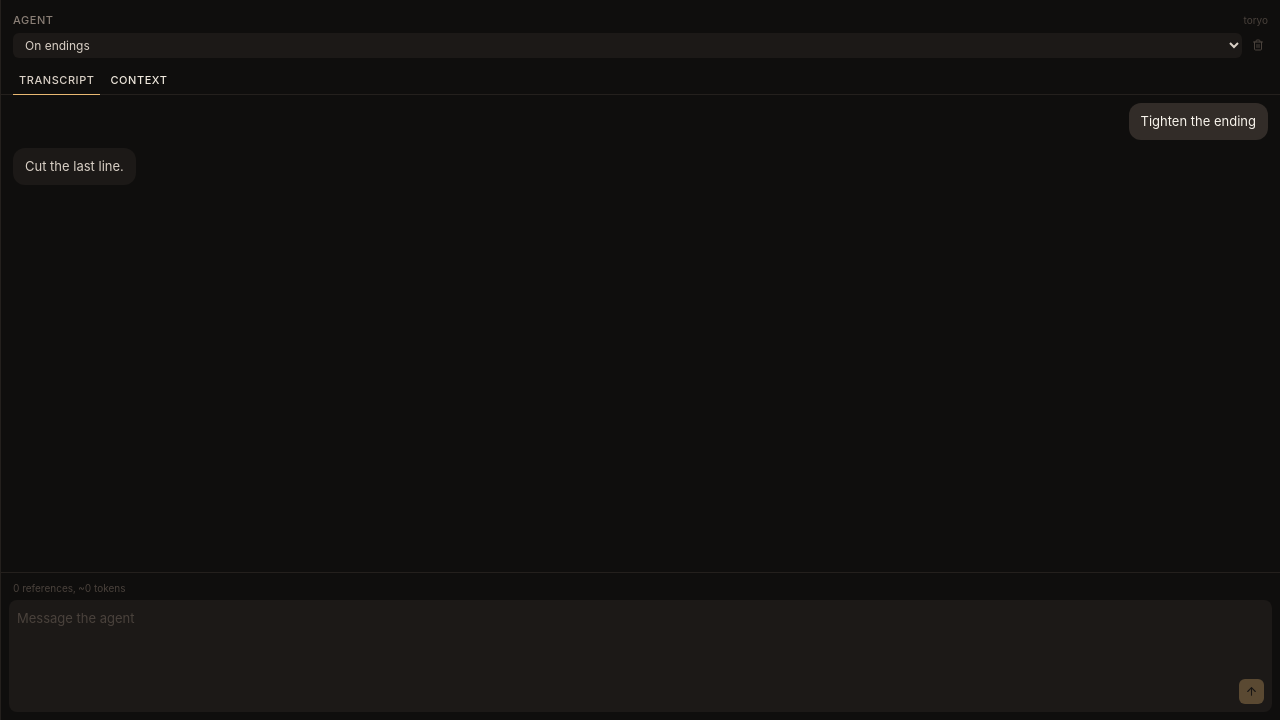
Test: the conversation switcher › should replace the visible messages when the second conversation is picked
Expected: the text "Cut the last line." is shown, [13,148,136,185]
Select "On openings" in the dropdown named "Conversation" at (628, 45), box [13,32,1242,58]
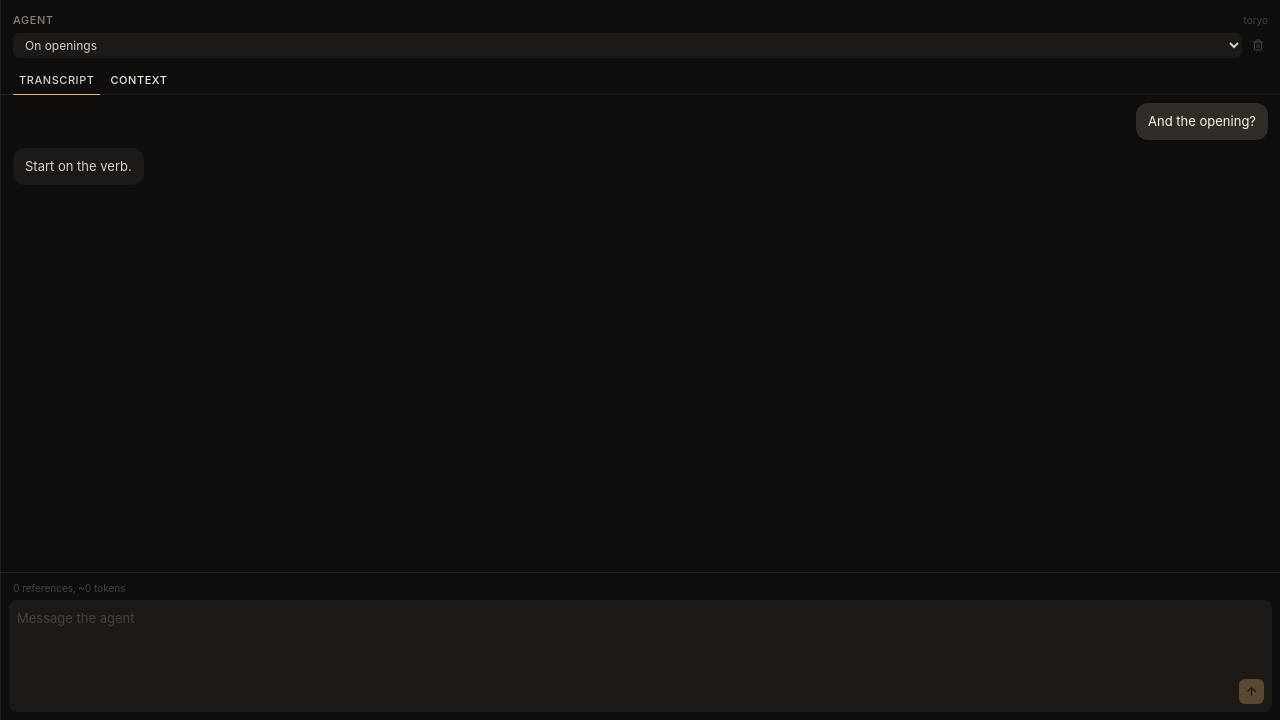
Expected: the text "Start on the verb." is shown, [13,148,144,185]
Expected: the text "Cut the last line." is gone
